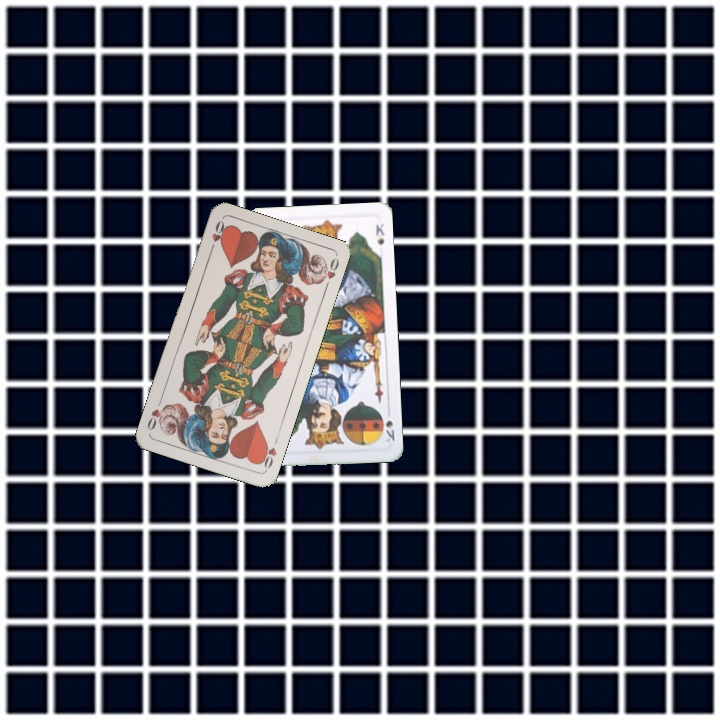HO: (256, 433, 281, 473), (205, 216, 227, 256)
SK: (377, 409, 397, 444)
